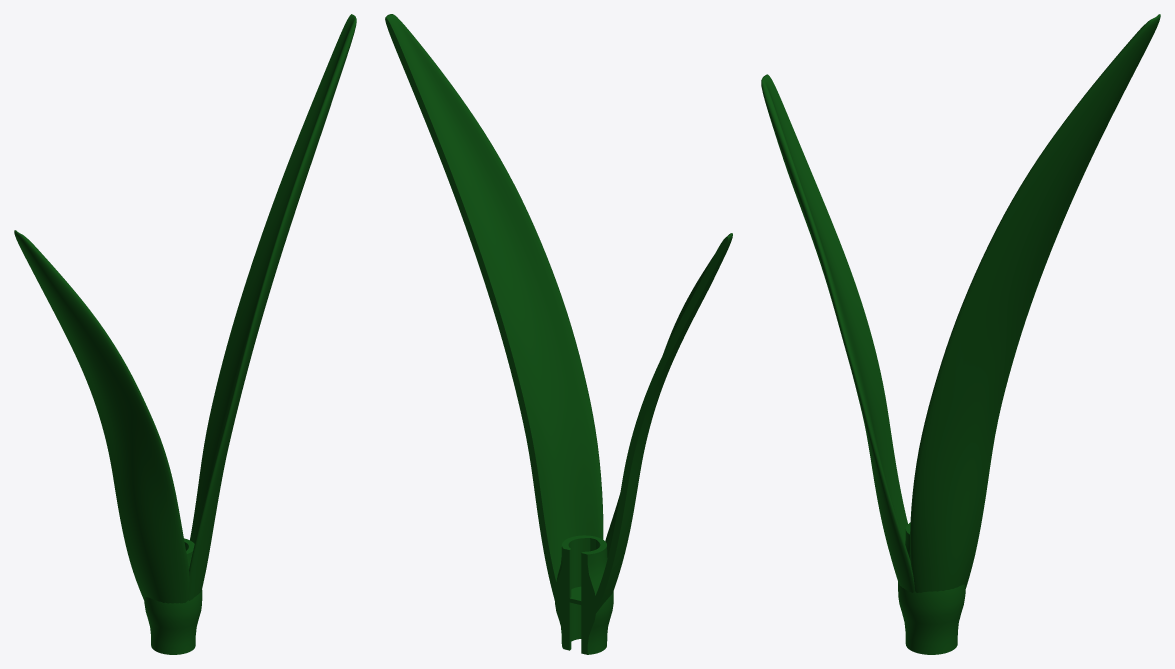
Rendered from c_tulip_leaf_b_r.glb.
3 views of the same model, side by side, from view 1: azimuth 30°, elevation 25°; view 2: azimuth 150°, elevation 25°; view 3: azimuth 330°, elevation 25° (orthographic). The views are drawn at different scales.
Visible parts, largest first — view 1: tulip_leaf_b_r1, tulip_leaf_b_r2, connector; view 2: tulip_leaf_b_r2, tulip_leaf_b_r1, connector; view 3: tulip_leaf_b_r2, tulip_leaf_b_r1, connector.
Boxes of the visible parts, box(x1,y1,x2,y2) form: tulip_leaf_b_r1: box(14, 230, 189, 603); tulip_leaf_b_r2: box(188, 14, 356, 600); connector: box(144, 538, 202, 654); tulip_leaf_b_r2: box(385, 14, 603, 600); tulip_leaf_b_r1: box(595, 233, 732, 612); connector: box(555, 535, 613, 654); tulip_leaf_b_r2: box(910, 14, 1160, 592); tulip_leaf_b_r1: box(761, 74, 914, 592); connector: box(898, 523, 965, 654).
Bounding box in the file's own units: 0.0896 × 0.1464 × 0.0167.
